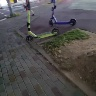beam: (46, 1, 78, 29)
gcooter: (22, 4, 60, 43)
